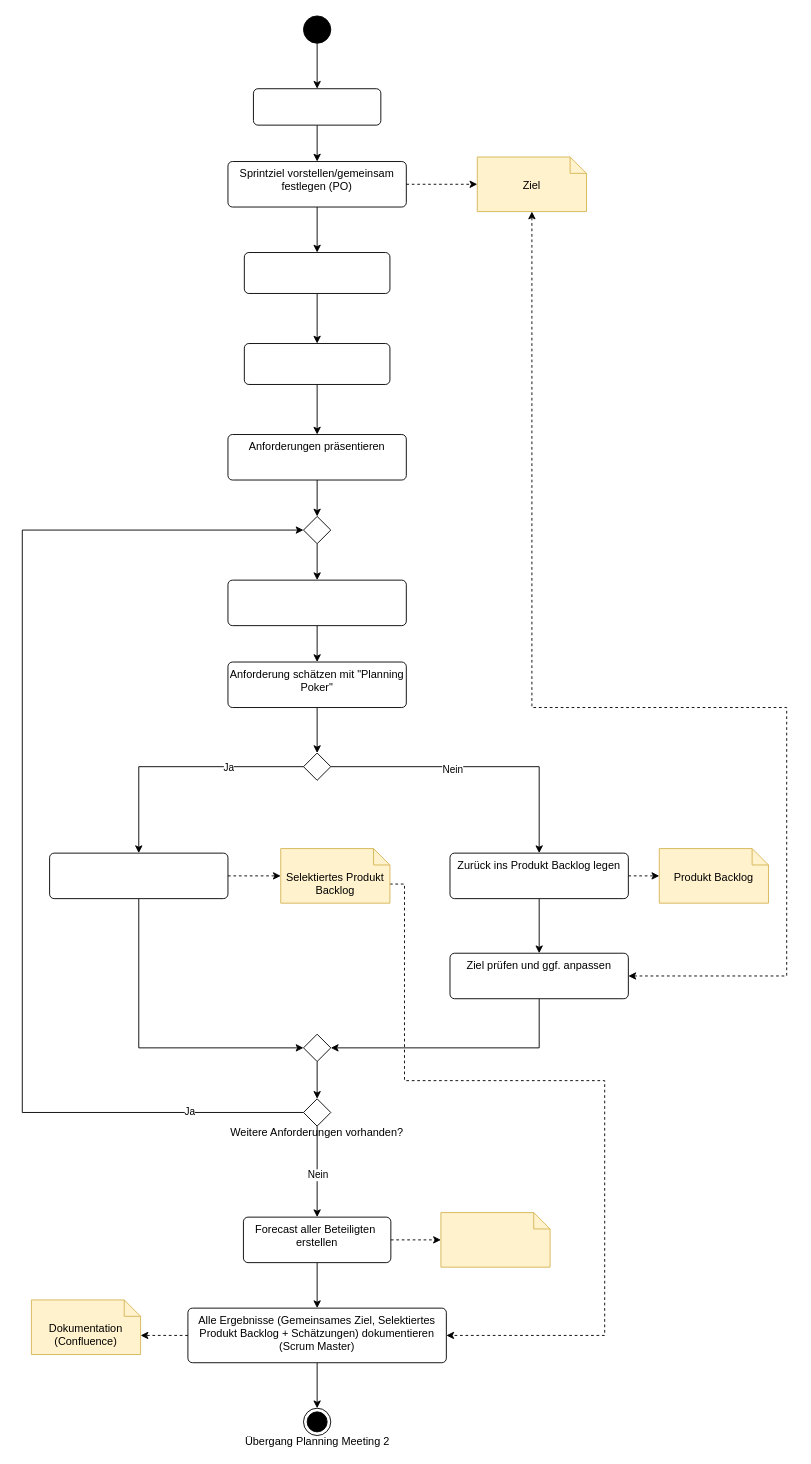
The diagram is 811 pixels wide and 1464 high, and some of its shapes have lost their labels. Each missing label, with the centre of its shape:
"Agenda vorstellen (PO)" belongs at [317,106].
"Anforderung analysieren, Rahmenbedingungen und Einflussfaktoren besprechen" belongs at [316,602].
"Ergebnisse des vorherigen Sprints prüfen" belongs at [316,272].
"Forecast" belongs at [495,1239].
"In selektiertes Produkt Backlog aufnehmen" belongs at [138,875].
"In selektiertes Produkt Backlog aufnehmen?" belongs at [317,766].
"Neue Kapazität (Velocity) ermitteln" belongs at [316,363].
